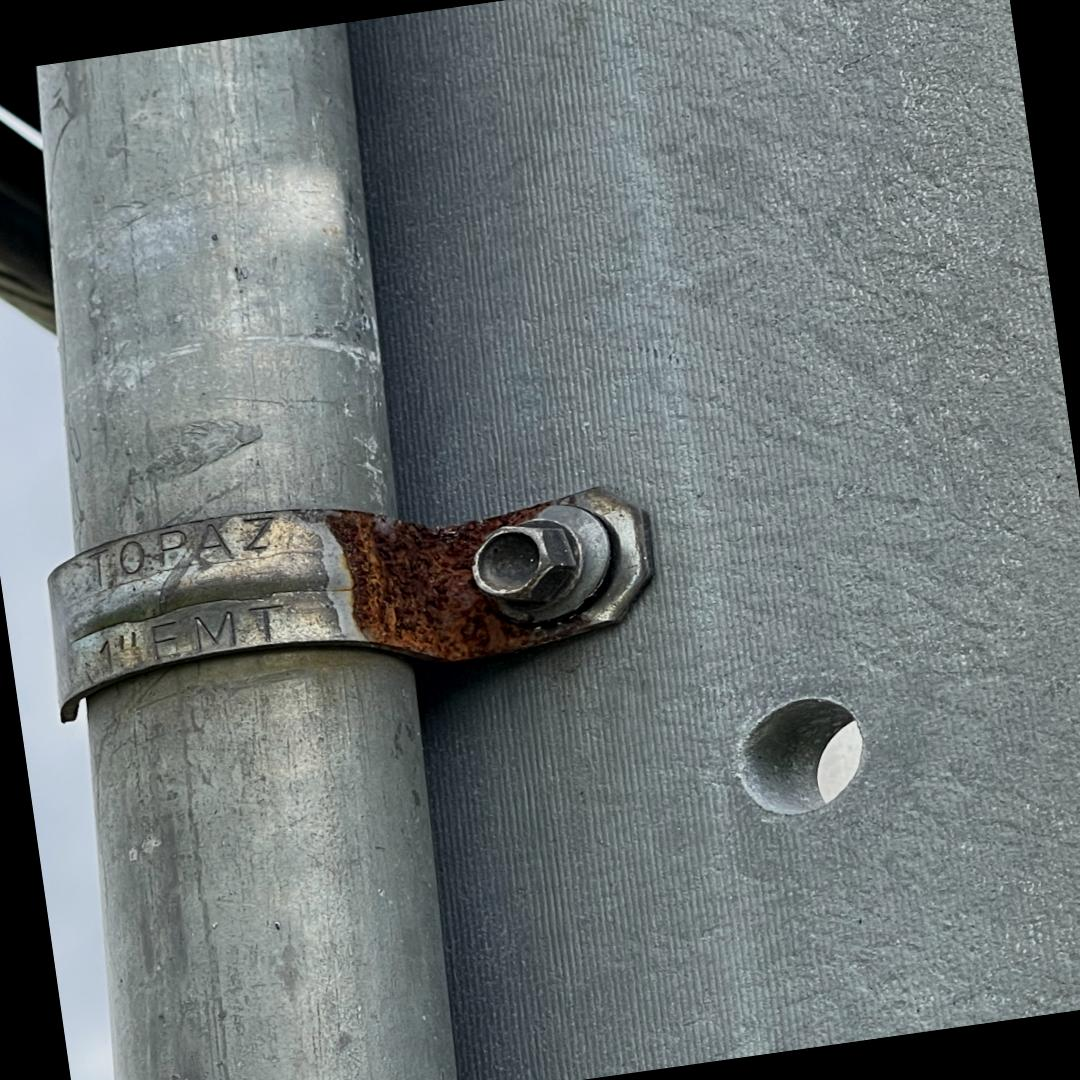Metal: (32, 0, 1080, 1080)
Metal corroido: (325, 507, 555, 662)
Tornillo sin corrosion: (471, 504, 637, 626)
